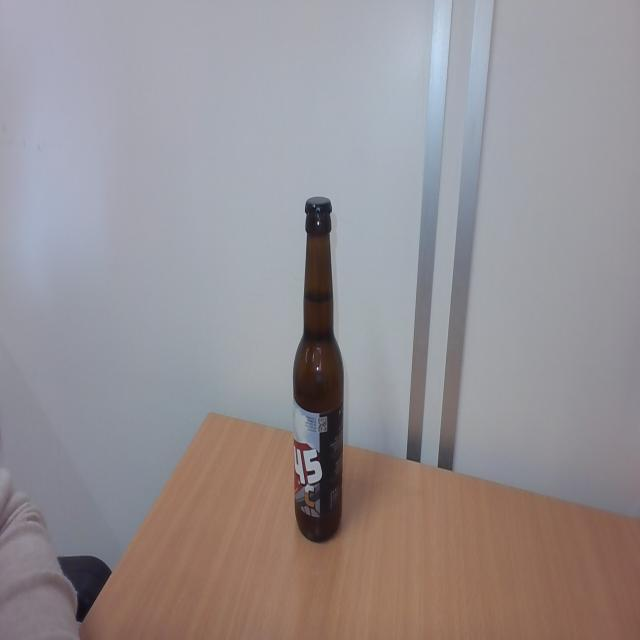Bottle: (293, 218, 343, 542)
Cap: (303, 194, 333, 222)
Label: (293, 403, 344, 518)
